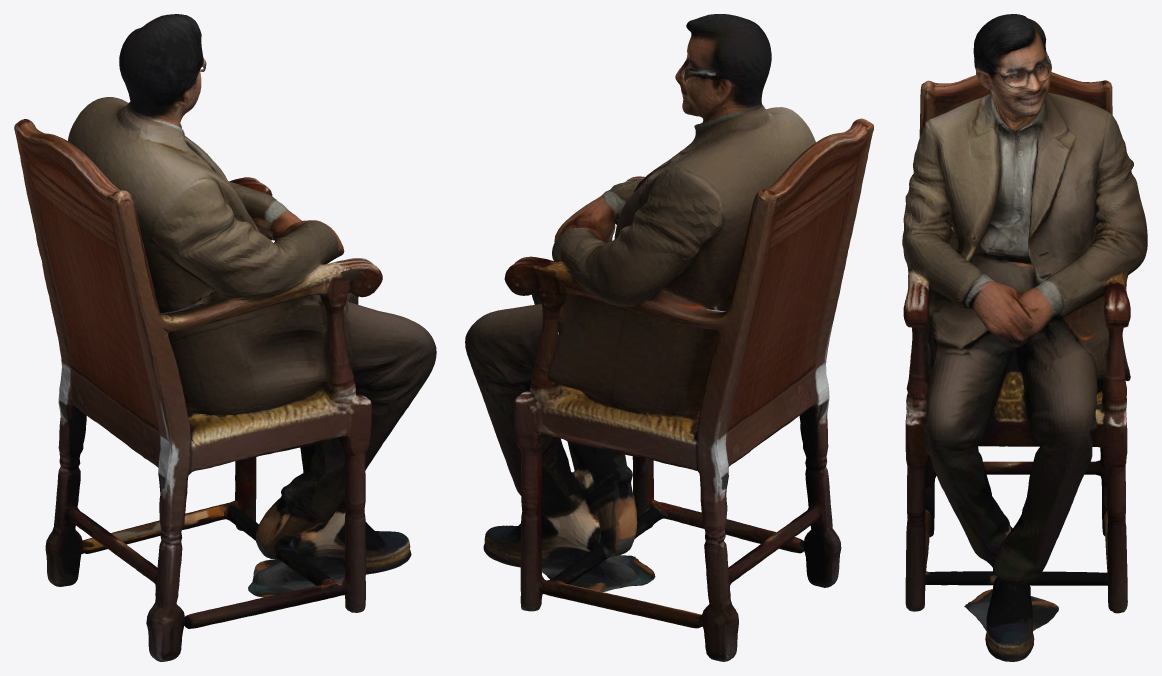
Rendered from modelo29.glb.
3 views of the same model, side by side, from view 1: azimuth 30°, elevation 25°; view 2: azimuth 150°, elevation 25°; view 3: azimuth 270°, elevation 25° (orthographic). The views are drawn at different scales.
Parts seen in each view (by area): view 1: tripo_node_33216a57-52b9-4da5-a72a-7086319957a3; view 2: tripo_node_33216a57-52b9-4da5-a72a-7086319957a3; view 3: tripo_node_33216a57-52b9-4da5-a72a-7086319957a3.
Part boxes in pixels (x1=…): tripo_node_33216a57-52b9-4da5-a72a-7086319957a3: x1=14, y1=14, x2=436, y2=661; tripo_node_33216a57-52b9-4da5-a72a-7086319957a3: x1=465, y1=14, x2=873, y2=661; tripo_node_33216a57-52b9-4da5-a72a-7086319957a3: x1=902, y1=14, x2=1147, y2=661.
Size of the model in its own units: 0.61 by 0.9997 by 0.4122.
1 material, 1 textured.
